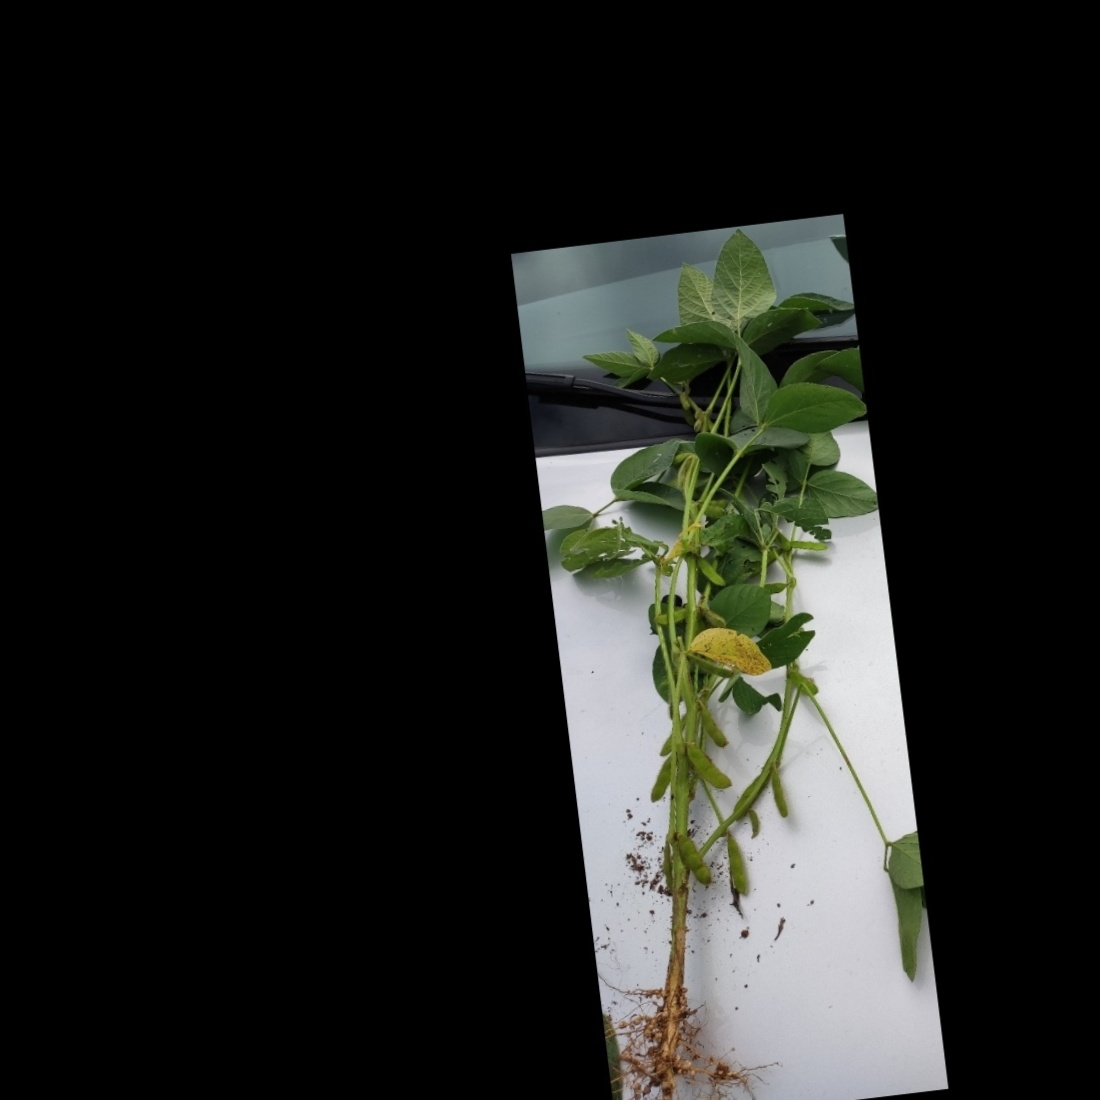pod: (683, 735, 736, 795), (719, 820, 754, 902), (676, 832, 716, 889), (762, 764, 794, 824), (695, 700, 730, 753), (640, 750, 675, 804), (691, 548, 727, 590), (785, 535, 835, 557), (744, 807, 765, 842)
soy: (522, 227, 913, 1089)
